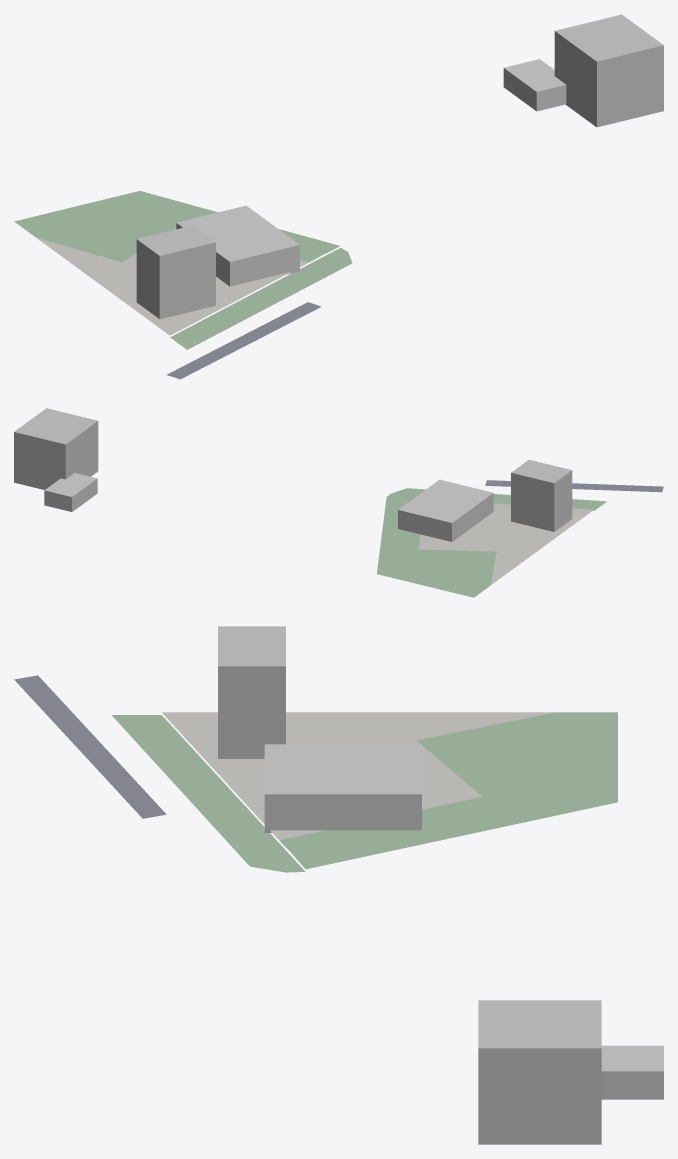
The model's file is 135_90_mid.glb.
3 views of the same model, one above another, from view 1: azimuth 30°, elevation 25°; view 2: azimuth 150°, elevation 25°; view 3: azimuth 270°, elevation 25° (orthographic). The views are drawn at different scales.
Size of the model in its own units: 441 by 42.88 by 262.
